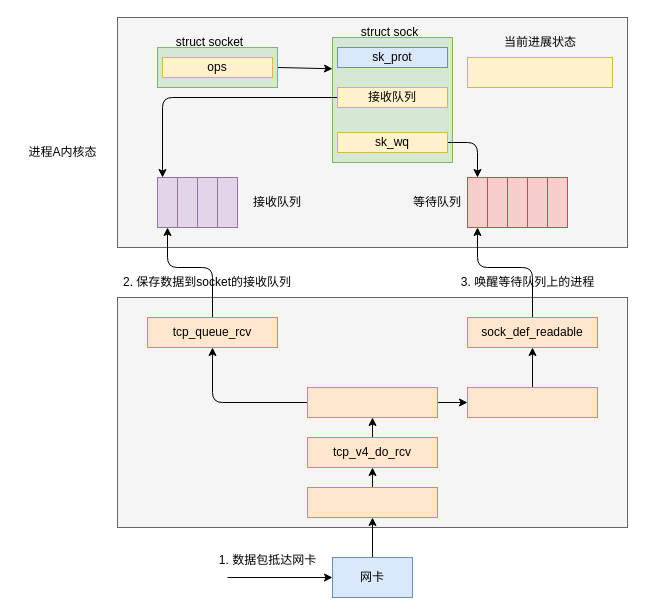
Some shapes in this 645 by 615 pixel diagram are drawn without their labels. Each missing label, with the box of its shape:
sk_data_ready: (466, 386, 598, 418)
TASK_INTERRUPTIPLE: (466, 56, 612, 88)
tcp_rcv_extablished: (306, 386, 438, 418)
tcp_v4_rcv: (306, 486, 438, 518)
